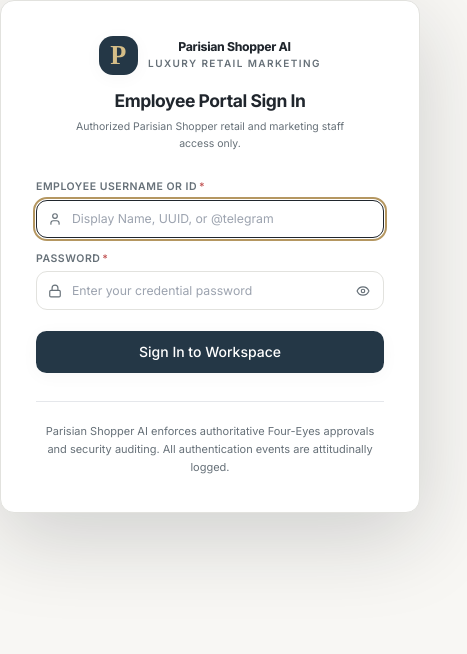
Scenario: Login Flow (WEB-AUTH-01 to WEB-AUTH-06, WEB-AUTH-15) › WEB-AUTH-02: performs client-side input validation on empty submission
Click the button "Sign In to Workspace" at (210, 352), box top-left (36, 331), bottom-right (384, 373)
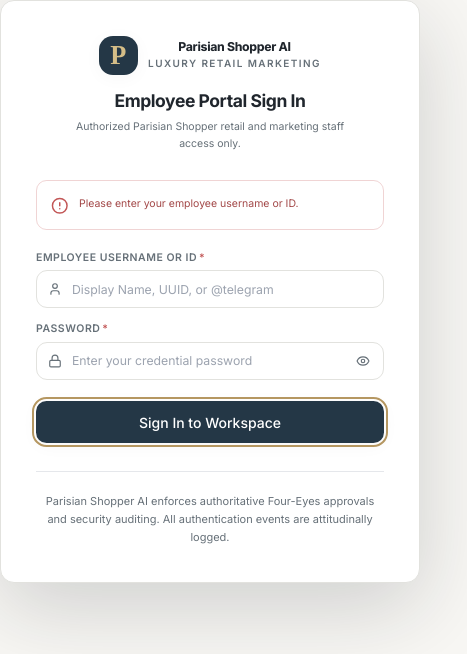
Expected: the text "Please enter your employee username or ID." is shown, top-left (79, 197), bottom-right (299, 210)
Note: Fill identifier, submit with empty password
Type "Thna Chan" into the field labelled "Employee Username or ID*" at (210, 289), box top-left (36, 270), bottom-right (384, 308)
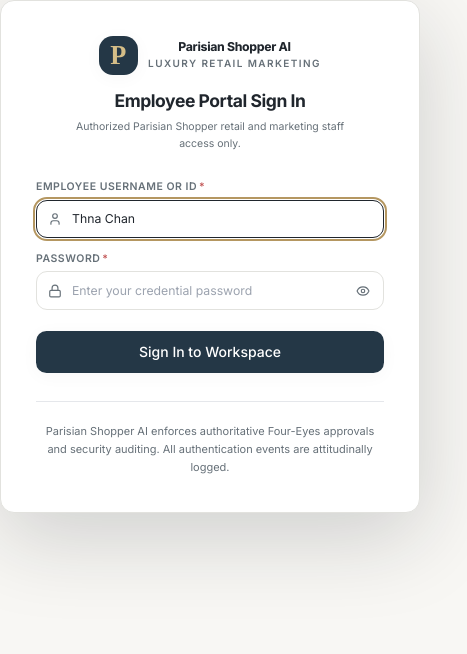
Click the button "Sign In to Workspace" at (210, 352), box top-left (36, 331), bottom-right (384, 373)
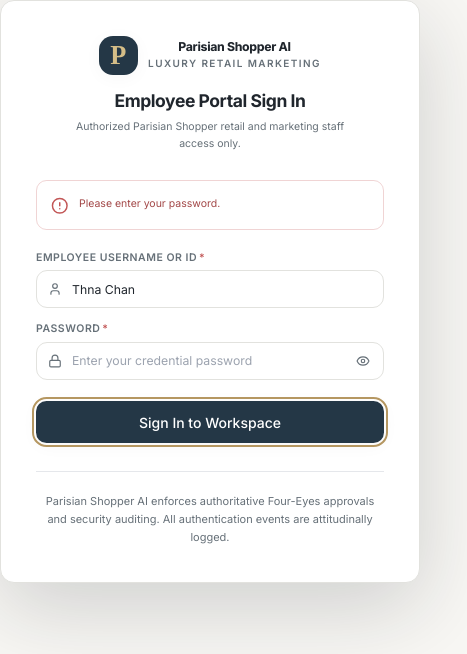
Expected: the text "Please enter your password." is shown, top-left (79, 197), bottom-right (220, 210)
